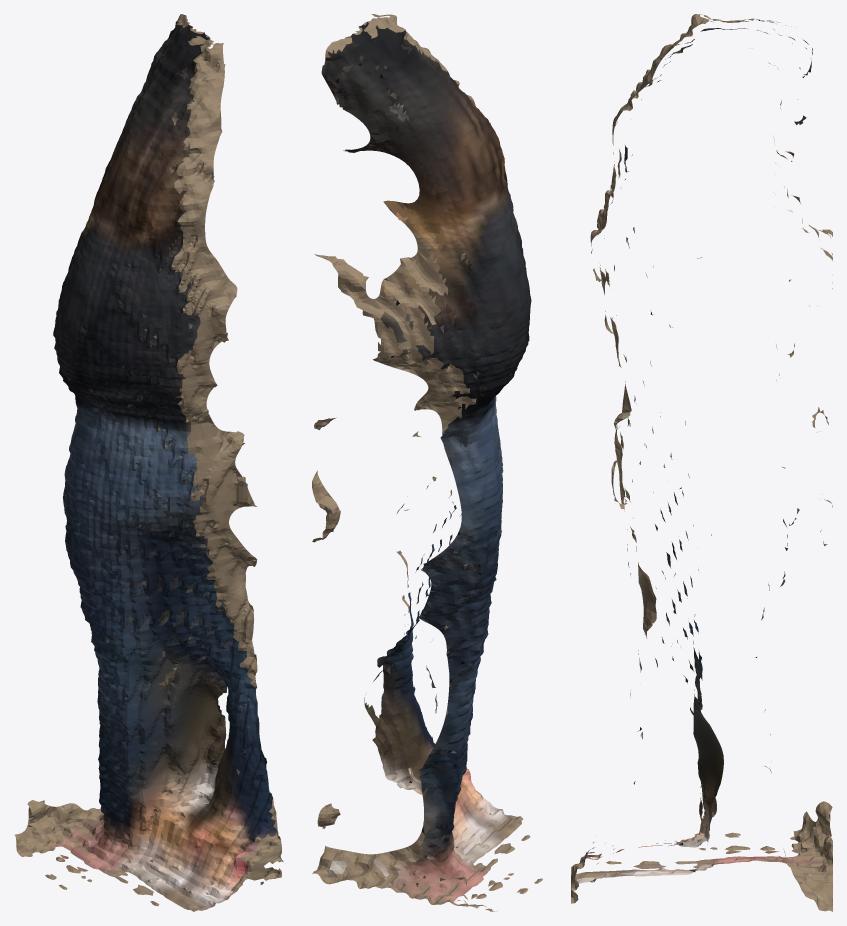
The picture shows the model from 3 angles, left to right: view 1: azimuth 30°, elevation 25°; view 2: azimuth 150°, elevation 25°; view 3: azimuth 270°, elevation 25°; orthographic projection. The views are drawn at different scales.
Bounding box in the file's own units: 0.3287 × 1.54 × 0.4068.
Materials: 1 (1 with a texture image).
